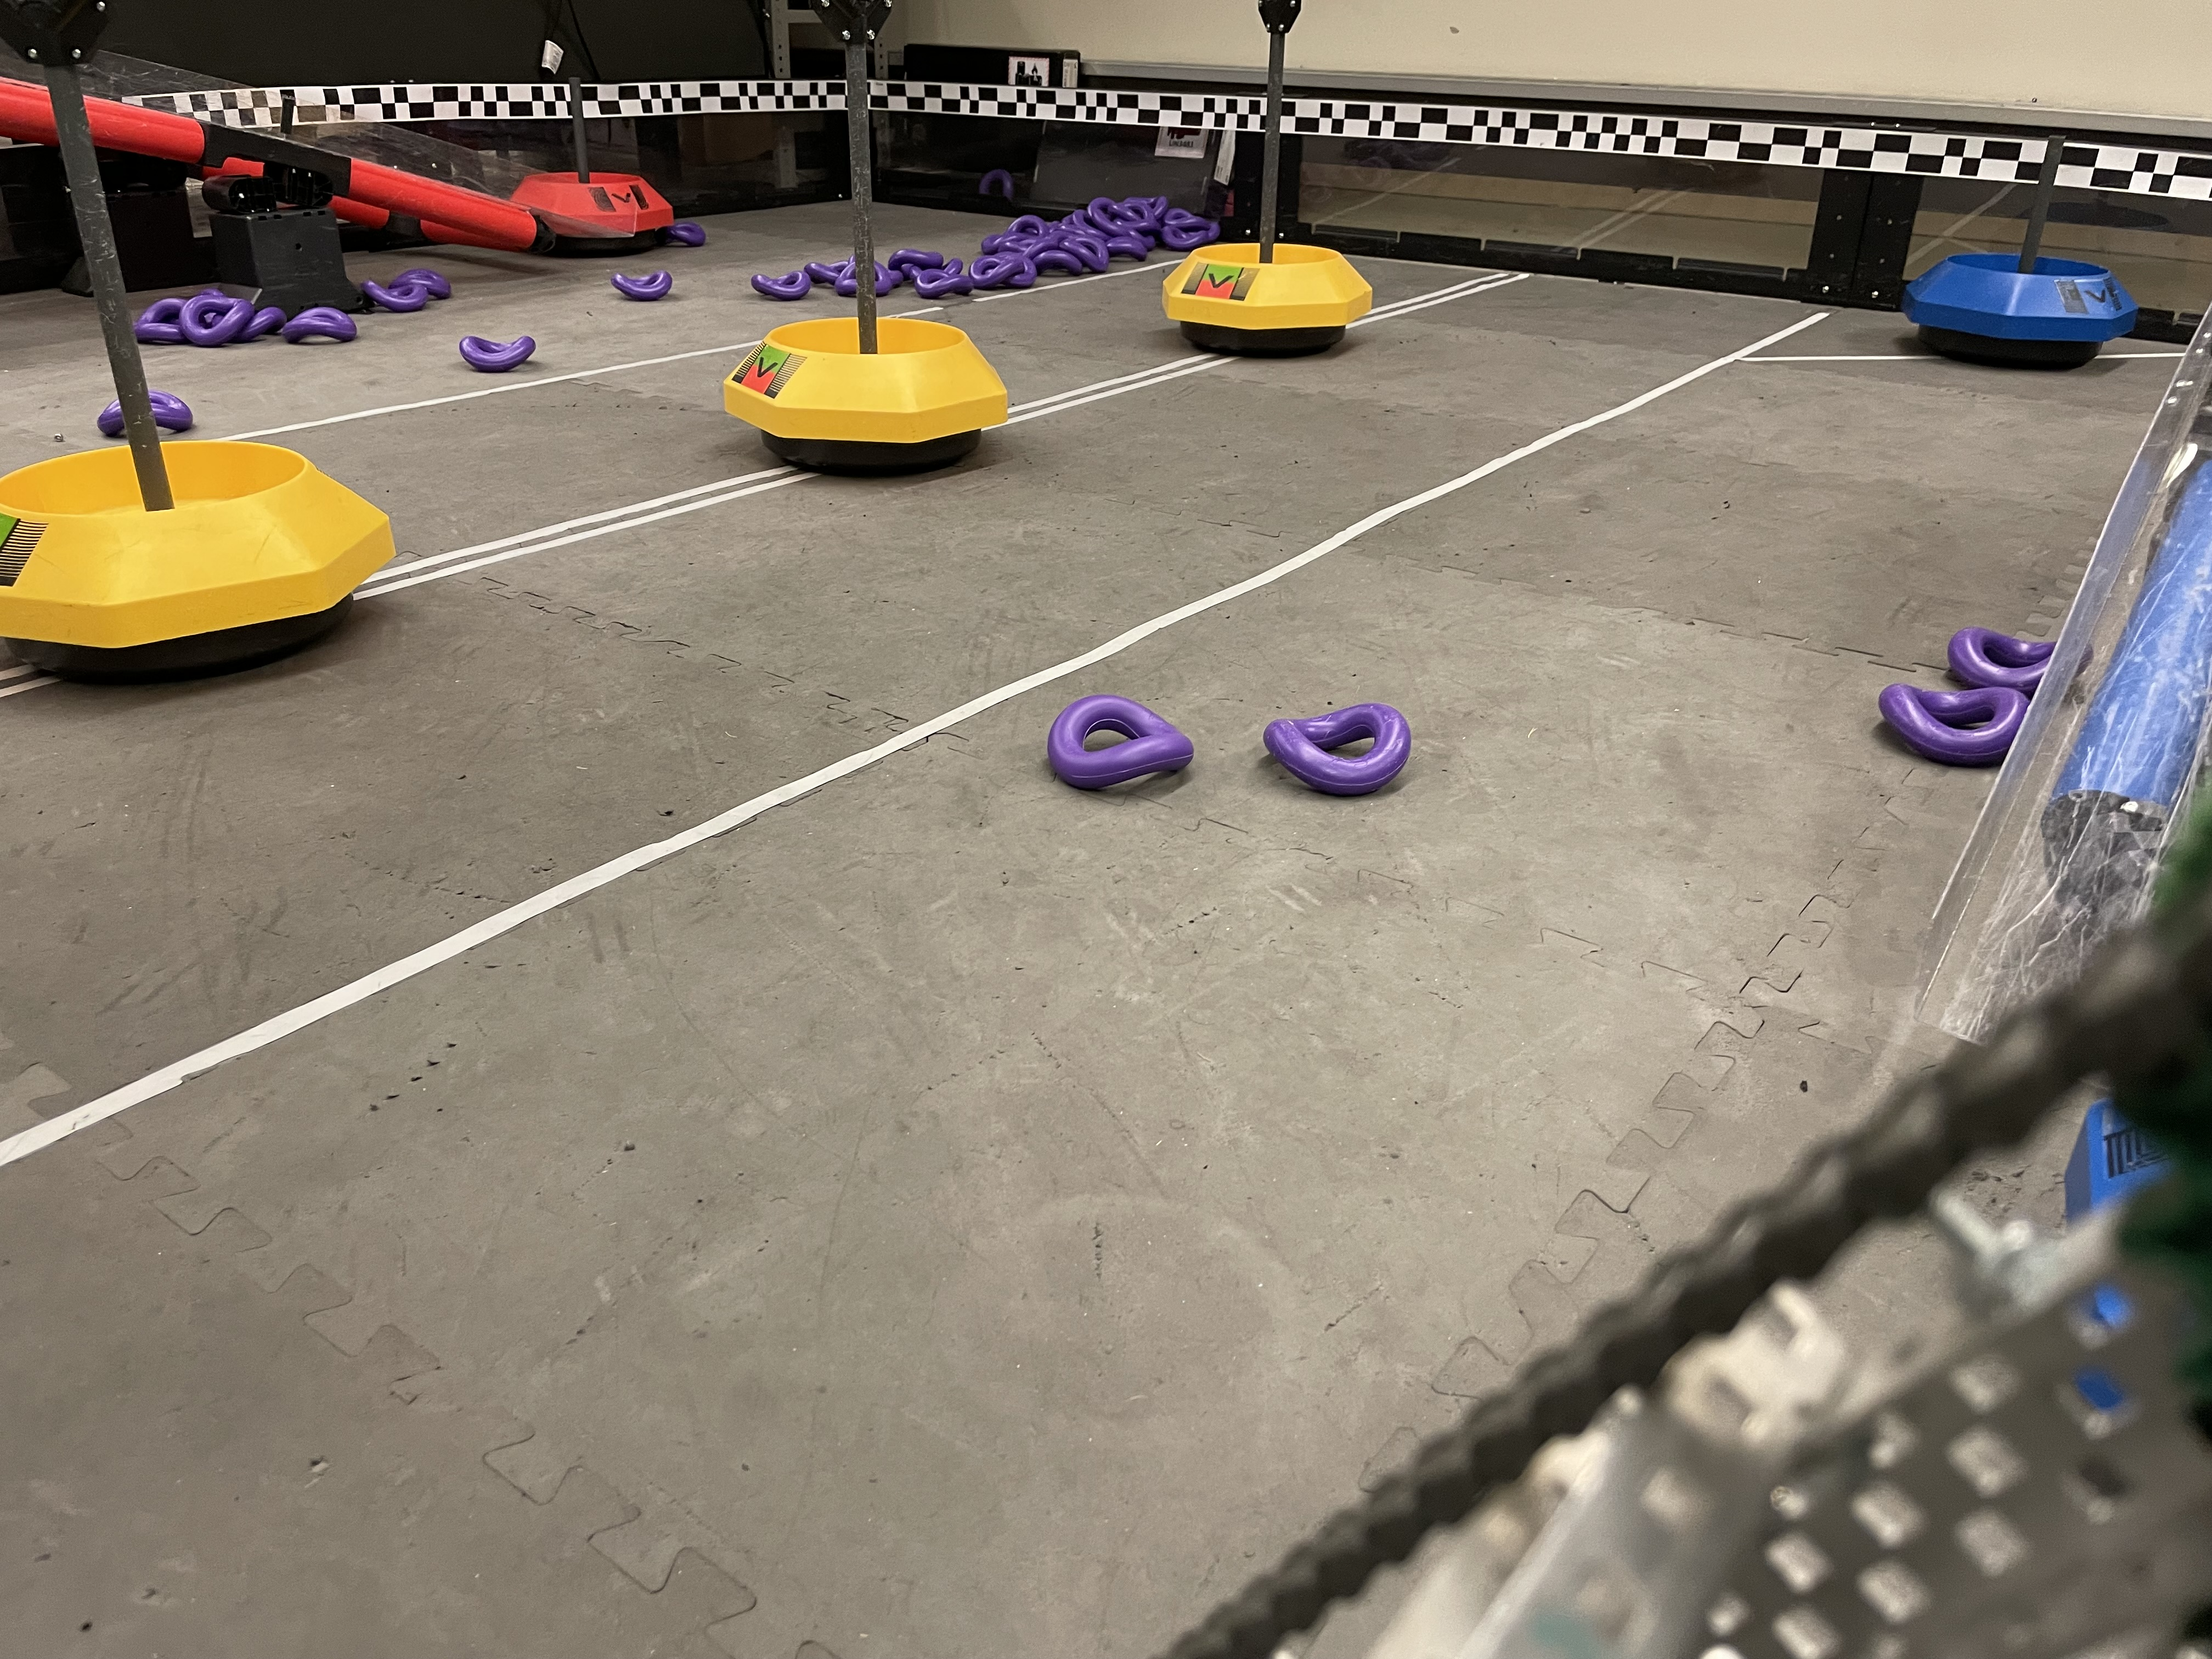ring: (1045, 694, 1195, 795), (1261, 704, 1413, 796), (1876, 683, 2031, 772), (1947, 624, 2092, 694), (94, 390, 195, 439), (181, 295, 254, 347), (456, 331, 538, 371), (280, 305, 359, 347), (134, 298, 199, 345), (359, 275, 430, 317), (383, 268, 453, 301), (833, 260, 892, 298), (225, 303, 289, 338), (610, 270, 674, 303), (1059, 234, 1109, 274), (751, 268, 810, 301), (913, 267, 974, 298), (982, 254, 1040, 288), (967, 256, 1022, 288), (1026, 249, 1083, 275), (885, 246, 944, 270), (899, 258, 965, 279), (1101, 235, 1150, 263), (660, 220, 707, 247), (1160, 225, 1207, 251), (1087, 197, 1125, 227), (1160, 207, 1207, 230), (1073, 207, 1109, 235), (805, 261, 852, 282), (981, 232, 1028, 253), (1008, 216, 1049, 240), (1106, 202, 1148, 225), (1143, 195, 1167, 218)
